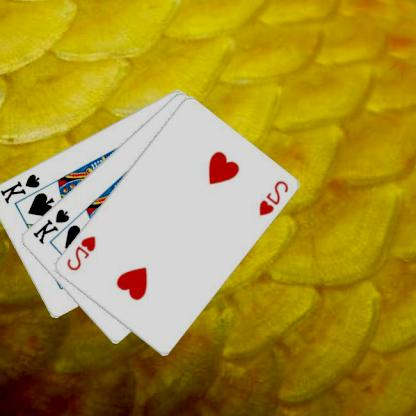2H: (257, 177, 291, 218), (65, 233, 99, 273)
KS: (32, 206, 72, 246), (0, 171, 43, 205)
